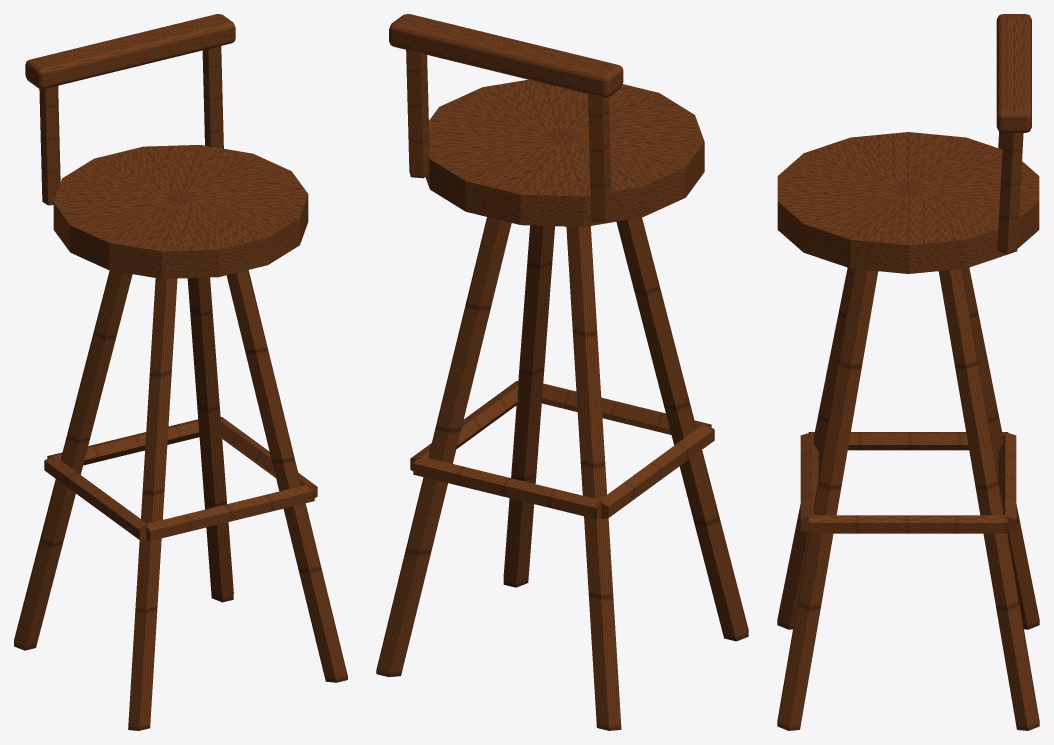
File: printing-press-and-newspaper-office-compositors-stool-0c968be0__37741.glb
3 renders of one model, left to right at view 1: azimuth 30°, elevation 25°; view 2: azimuth 150°, elevation 25°; view 3: azimuth 270°, elevation 25°, orthographic. The views are drawn at different scales.
Parts seen in each view (by area): view 1: compositors-stool; view 2: compositors-stool; view 3: compositors-stool.
Part boxes in pixels (x1,y1,x2,y2): compositors-stool: [14, 14, 347, 730]; compositors-stool: [376, 14, 748, 730]; compositors-stool: [777, 14, 1039, 730].
Bounding box in the file's own units: 0.38 × 0.9602 × 0.3715.
1 material, 1 textured.
